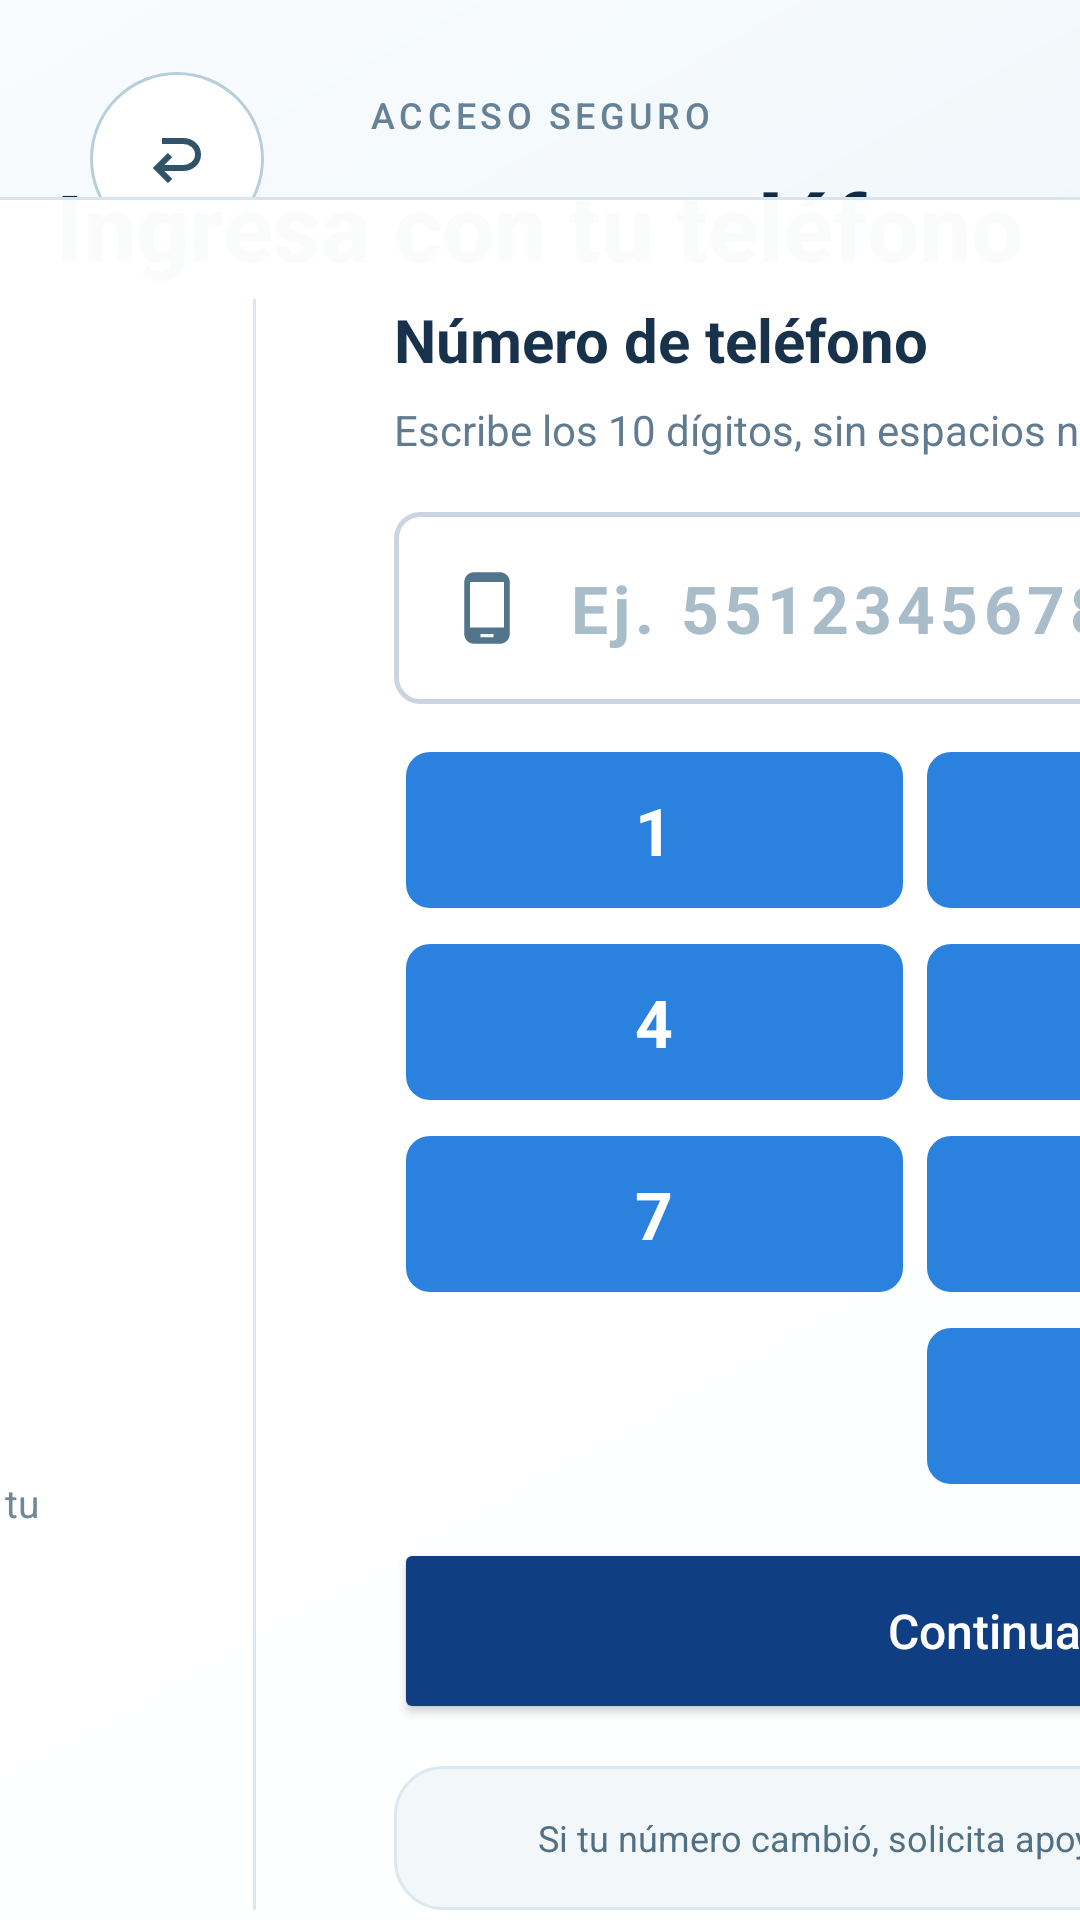

Point at icon controls on the screen. Image size 1080 x 1920, points as [x,y].
phone: [487,608]
